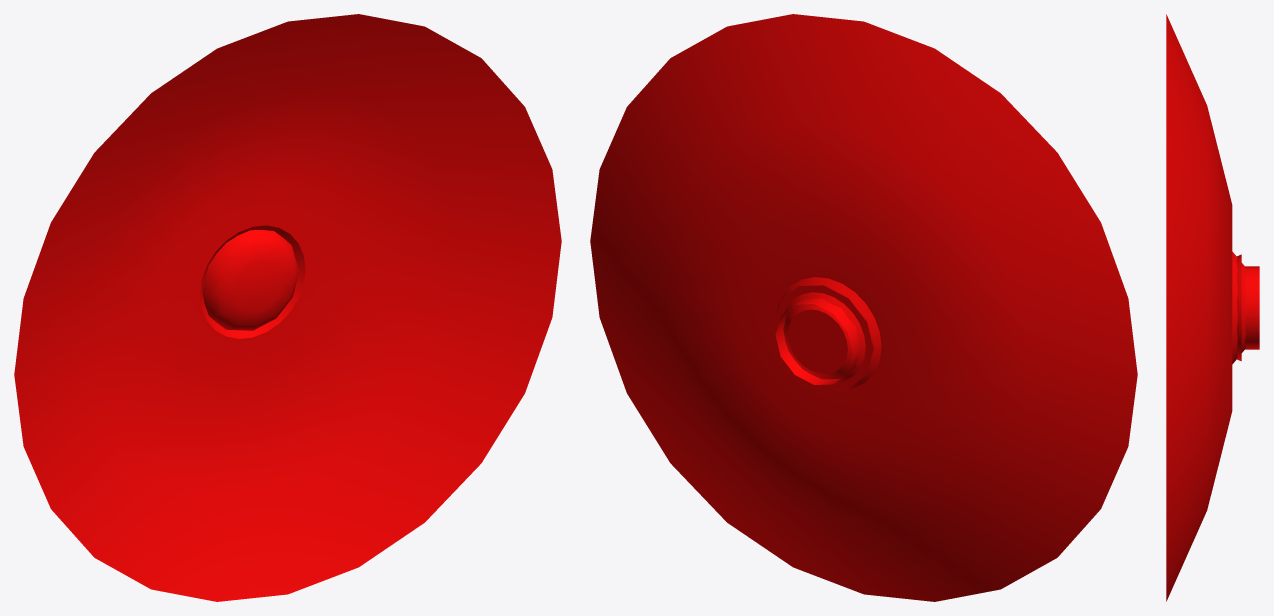
File: MeshPsSinkbasin_18_1.obj
3 renders of one model, left to right at view 1: azimuth 30°, elevation 25°; view 2: azimuth 150°, elevation 25°; view 3: azimuth 270°, elevation 25°, orthographic. The views are drawn at different scales.
Parts seen in each view (by area): view 1: PsSinkbasin_18; view 2: PsSinkbasin_18; view 3: PsSinkbasin_18.
Part boxes in pixels (bbox=[...]): PsSinkbasin_18: bbox=[14, 14, 561, 601]; PsSinkbasin_18: bbox=[590, 14, 1137, 601]; PsSinkbasin_18: bbox=[1166, 14, 1259, 601].
Bounding box in the file's own units: 0.3876 × 0.3876 × 0.0612.
